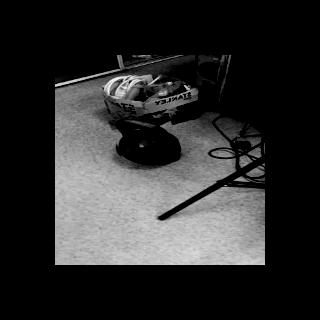kettlebell: (110, 115, 181, 167)
